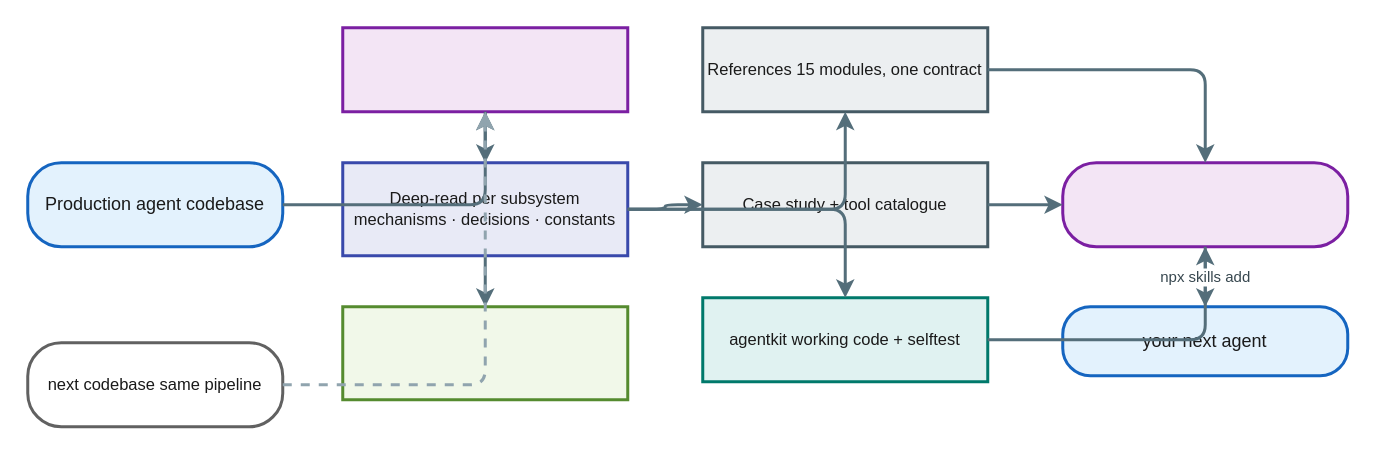
Image size: 1374x453. Some labels were removed from this diagram. Here are the shapes that lost their labels. From the top down, the centre of each, then its label:
At (x=484, y=69): "Scope subsystems exclude what teaches nothing".
At (x=1204, y=204): "skills/agent-creator".
At (x=484, y=352): "Verify every file:line anchors → citations.lock.json".
